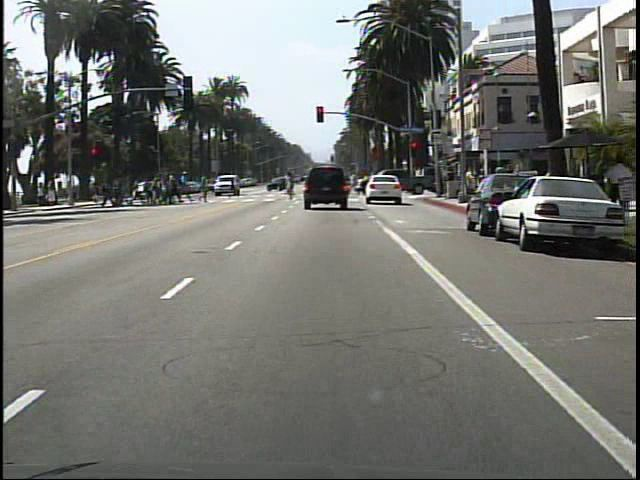person: (601, 153, 634, 224), (347, 167, 364, 204), (226, 172, 245, 203)
